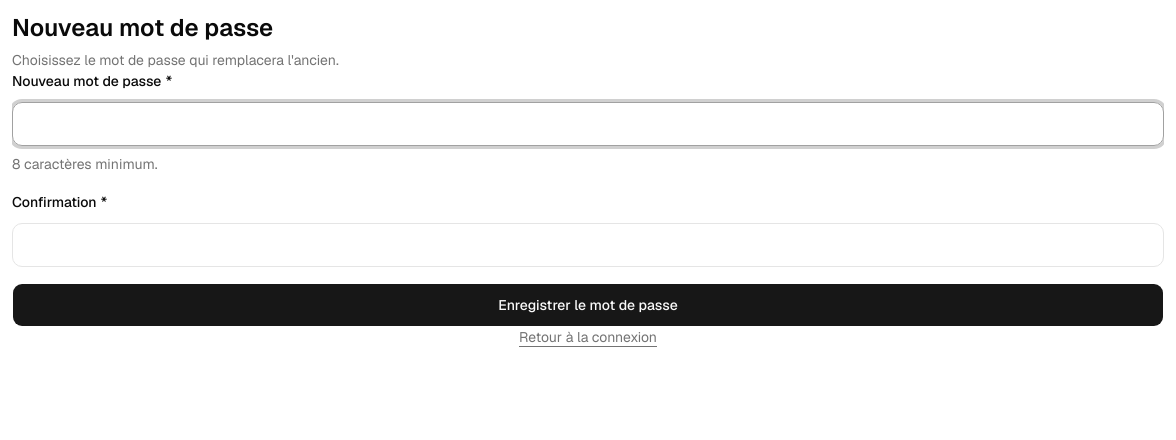
Test: ResetPasswordScreen › releases the button after a failure instead of spinning forever
Type "nouveaumotdepasse" into the password field labelled "Nouveau mot de passe" at (588,124), box [12,102,1164,146]
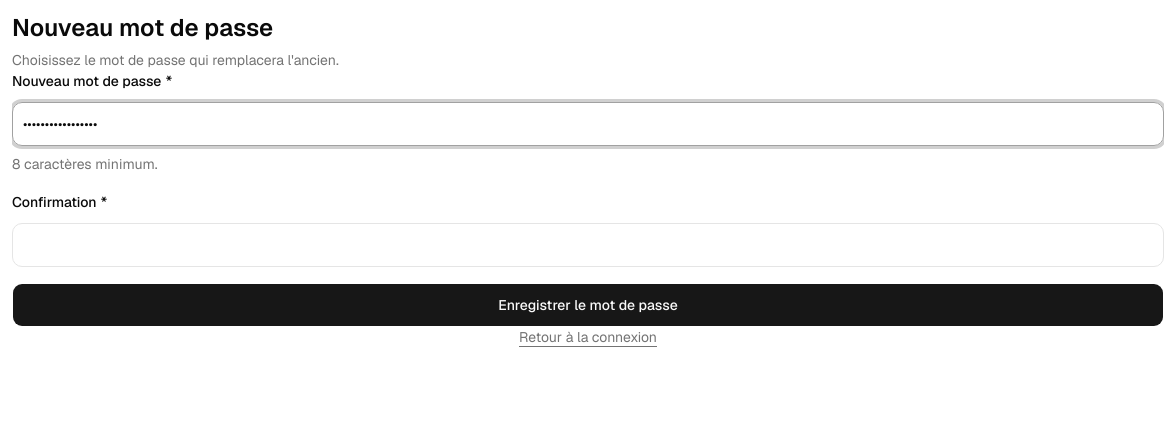
Type "nouveaumotdepasse" into the password field labelled "Confirmation" at (588,245), box [12,223,1164,267]
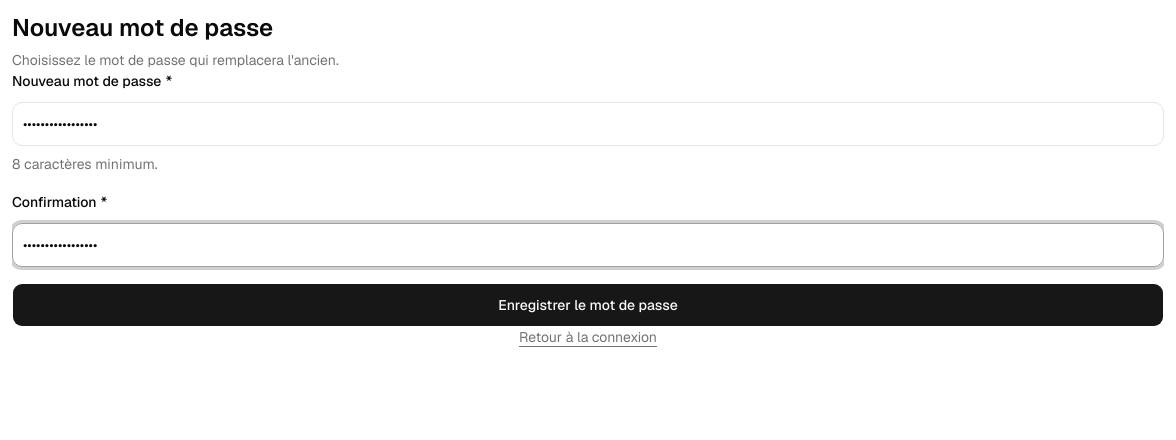
Click the button "Enregistrer le mot de passe" at (588,305), box [12,283,1164,327]
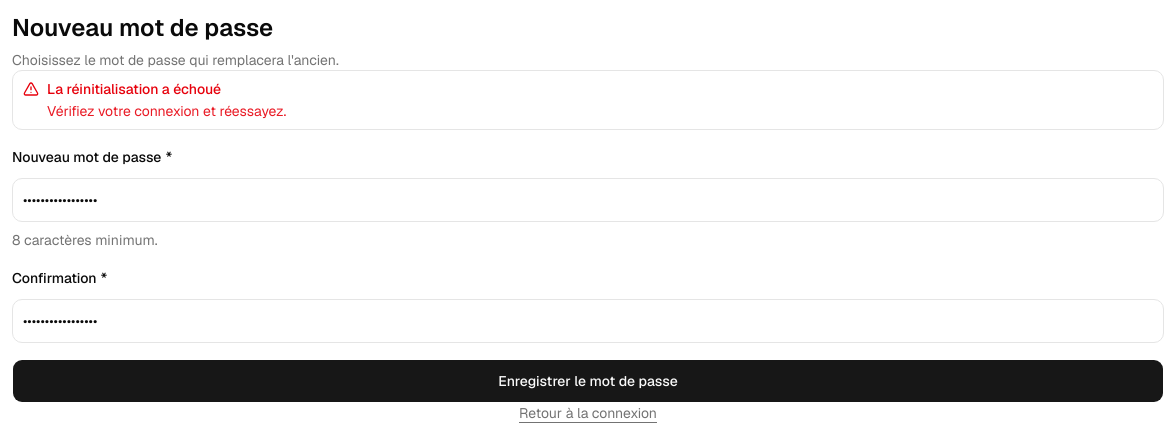
expect the button "Enregistrer le mot de passe" is enabled: met, box [12,359,1164,403]
expect the text "Vérifiez votre connexion et réessayez." is shown: met, box [47,102,286,120]
